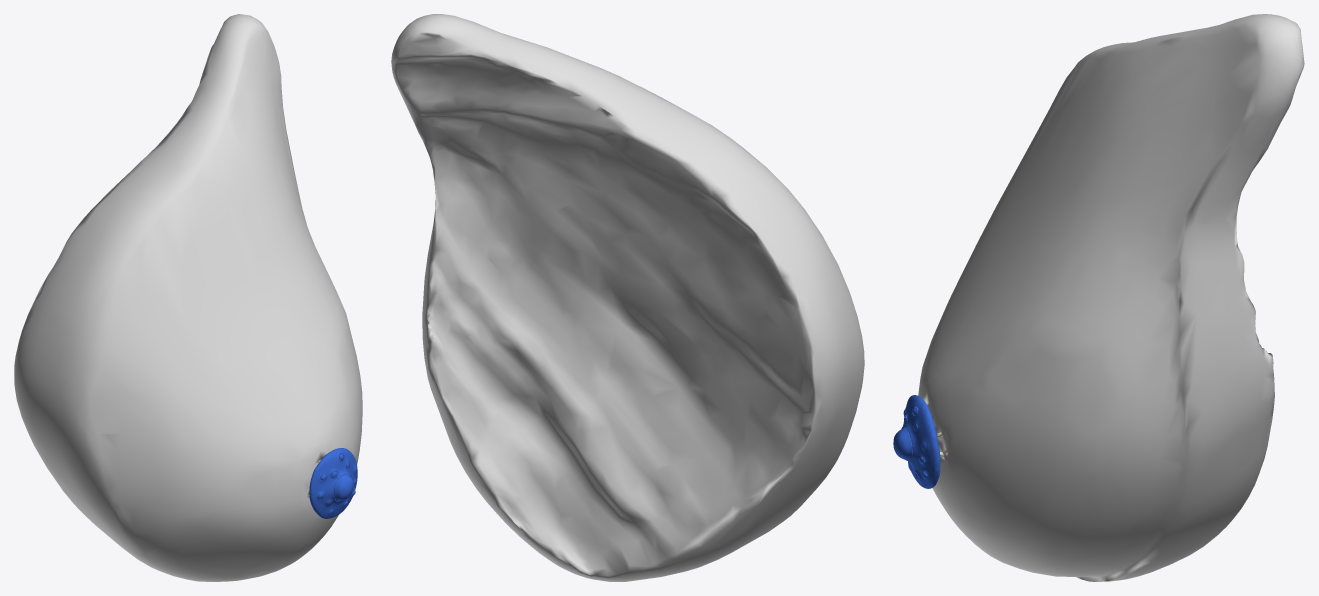
Rendered from 3d-vh-f-mammary-gland-l-40.fbx.
3 views of the same model, side by side, from view 1: azimuth 30°, elevation 25°; view 2: azimuth 150°, elevation 25°; view 3: azimuth 270°, elevation 25° (orthographic). The views are drawn at different scales.
Parts seen in each view (by area): view 1: VH_F_fat_L, VH_F_areola_L; view 2: VH_F_fat_L; view 3: VH_F_fat_L, VH_F_areola_L, VH_F_nipple_L.
Part boxes in pixels (left/top/right/bottom): VH_F_fat_L: left=14, top=14, right=362, bottom=581; VH_F_areola_L: left=309, top=448, right=357, bottom=518; VH_F_fat_L: left=391, top=14, right=864, bottom=581; VH_F_fat_L: left=918, top=14, right=1304, bottom=581; VH_F_areola_L: left=901, top=395, right=940, bottom=488; VH_F_nipple_L: left=893, top=427, right=913, bottom=463.
Size of the model in its own units: 12.81 by 18.19 by 11.19.
